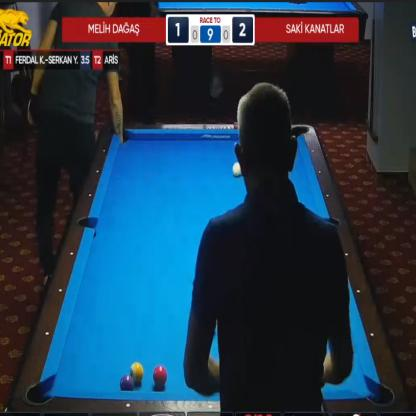Ball: (130, 362, 144, 384), (153, 366, 167, 387), (120, 375, 133, 390), (232, 162, 242, 176)
